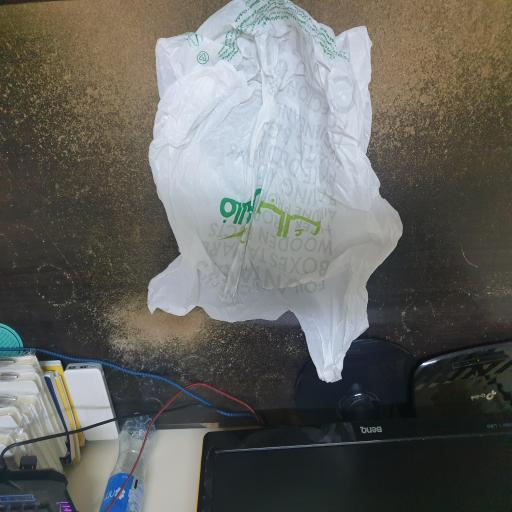plastic bag: (146, 0, 402, 384)
